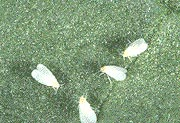whitefly: (30, 64, 63, 92), (121, 38, 149, 62), (98, 62, 128, 82), (77, 95, 98, 122)
